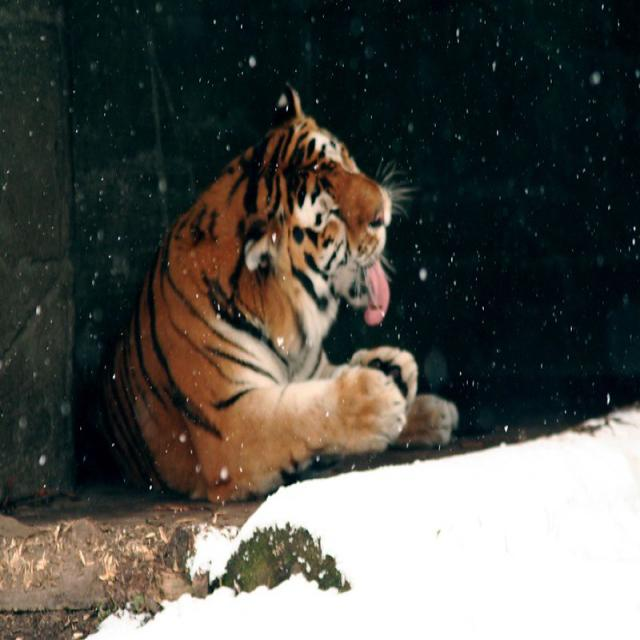Tiger: (74, 72, 462, 506)
